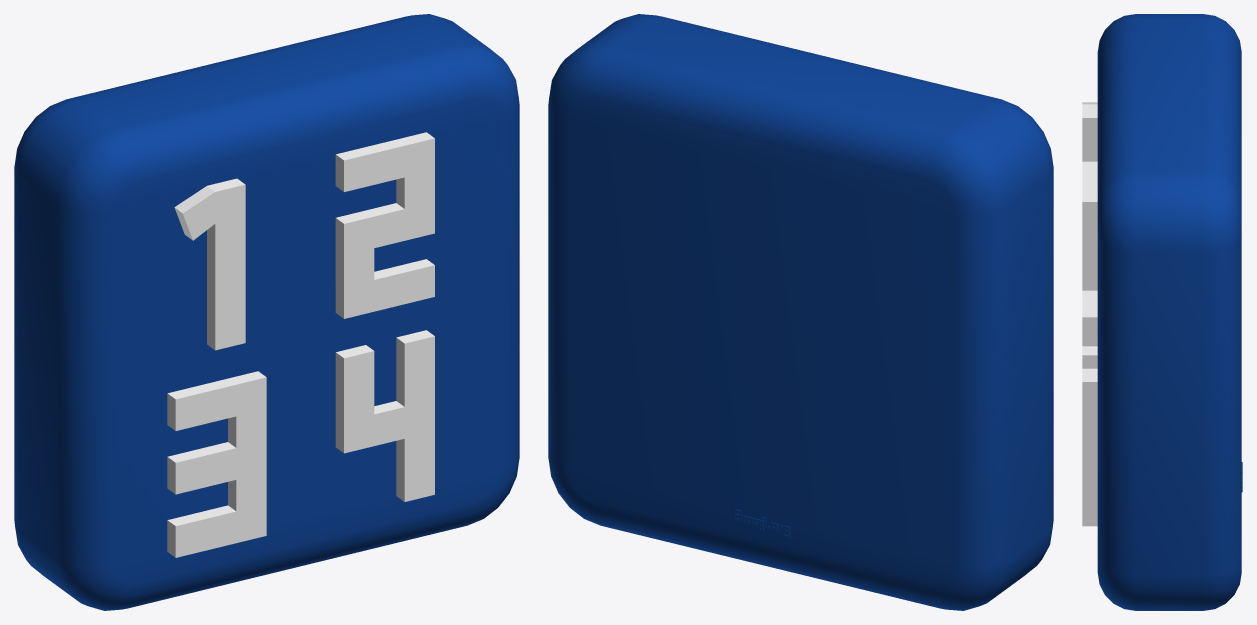
File: input_numbers.glb
3 views of the same model, side by side, from view 1: azimuth 30°, elevation 25°; view 2: azimuth 150°, elevation 25°; view 3: azimuth 270°, elevation 25° (orthographic). The views are drawn at different scales.
Parts seen in each view (by area): view 1: Cube.6597; view 2: Cube.6597; view 3: Cube.6597.
Part boxes in pixels (x1,y1,x2,y2): Cube.6597: (14, 14, 519, 610); Cube.6597: (548, 14, 1053, 610); Cube.6597: (1082, 14, 1242, 610).
Bounding box in the file's own units: 2.2 × 2.2 × 0.7336.
1 material, 1 textured.
